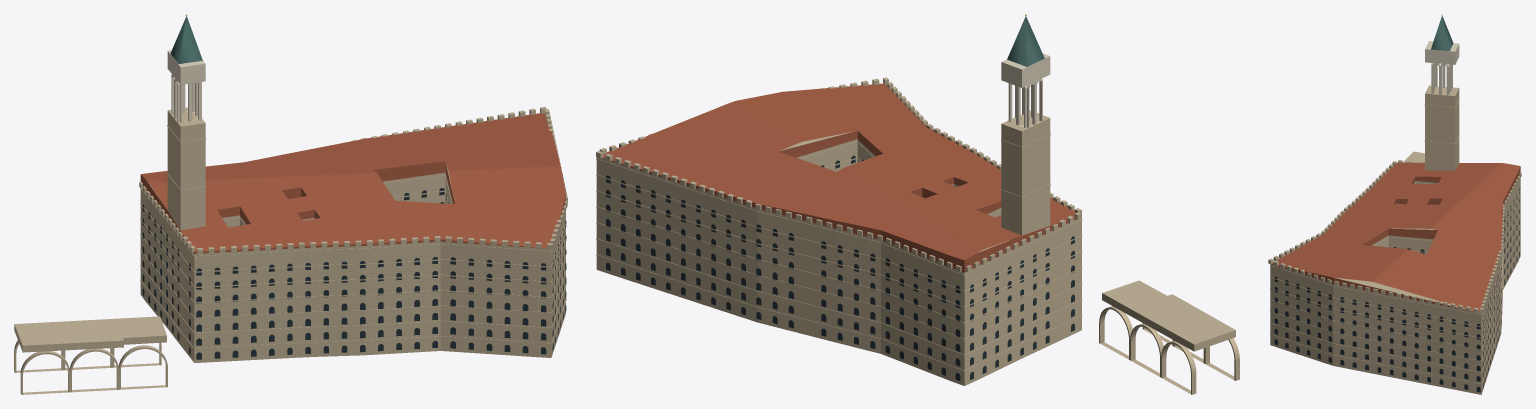
Rendered from signoria.glb.
3 views of the same model, side by side, from view 1: azimuth 30°, elevation 25°; view 2: azimuth 150°, elevation 25°; view 3: azimuth 270°, elevation 25° (orthographic). The views are drawn at different scales.
Parts seen in each view (by area): view 1: palazzo-vecchio, roof, facade-windows, storey-bands, lanzi-roof, arnolfo-tower, palace-crenellations, lanzi-open-loggia, arnolfo-tower-belfry, arnolfo-tower-pyramidal-spire, arnolfo-tower-attic; view 2: palazzo-vecchio, roof, facade-windows, storey-bands, arnolfo-tower, lanzi-roof, palace-crenellations, lanzi-open-loggia, arnolfo-tower-belfry, arnolfo-tower-attic, arnolfo-tower-pyramidal-spire; view 3: roof, palazzo-vecchio, facade-windows, storey-bands, arnolfo-tower, palace-crenellations, arnolfo-tower-belfry, arnolfo-tower-attic, arnolfo-tower-pyramidal-spire.
Part boxes in pixels (<box>): palazzo-vecchio: <box>140,163,565,362</box>; roof: <box>140,113,565,253</box>; facade-windows: <box>142,188,566,359</box>; storey-bands: <box>140,175,566,349</box>; lanzi-roof: <box>14,316,166,352</box>; arnolfo-tower: <box>167,107,205,230</box>; palace-crenellations: <box>139,106,567,254</box>; lanzi-open-loggia: <box>14,340,167,394</box>; arnolfo-tower-belfry: <box>171,74,201,122</box>; arnolfo-tower-pyramidal-spire: <box>170,16,202,63</box>; arnolfo-tower-attic: <box>167,50,205,84</box>; palazzo-vecchio: <box>596,131,1081,385</box>; roof: <box>602,83,1081,272</box>; facade-windows: <box>606,155,1074,380</box>; storey-bands: <box>596,141,1082,371</box>; arnolfo-tower: <box>1001,110,1050,358</box>; lanzi-roof: <box>1102,280,1235,351</box>; palace-crenellations: <box>596,77,1081,272</box>; lanzi-open-loggia: <box>1099,306,1239,394</box>; arnolfo-tower-belfry: <box>1008,78,1042,127</box>; arnolfo-tower-attic: <box>1001,53,1050,87</box>; arnolfo-tower-pyramidal-spire: <box>1007,16,1044,66</box>; roof: <box>1272,162,1520,313</box>; palazzo-vecchio: <box>1270,178,1520,394</box>; facade-windows: <box>1274,188,1519,392</box>; storey-bands: <box>1270,177,1520,384</box>; arnolfo-tower: <box>1425,85,1459,170</box>; palace-crenellations: <box>1268,160,1521,312</box>; arnolfo-tower-belfry: <box>1431,63,1452,95</box>; arnolfo-tower-attic: <box>1425,41,1459,64</box>; arnolfo-tower-pyramidal-spire: <box>1431,16,1453,50</box>.
Size of the model in its own units: 16 by 8.58 by 8.2.
